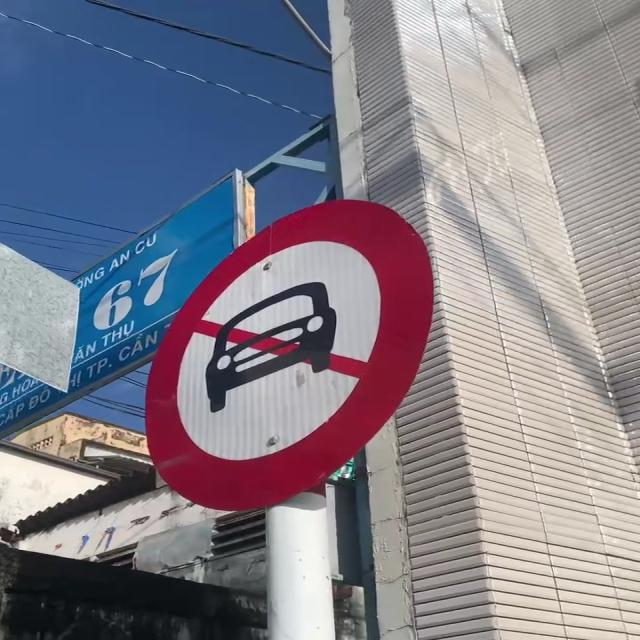Cam_O_To: (146, 203, 436, 510)
